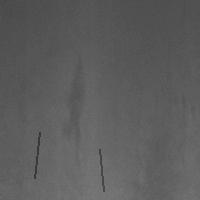inclusion: (56, 54, 94, 167), (32, 130, 41, 180), (97, 147, 105, 193)
